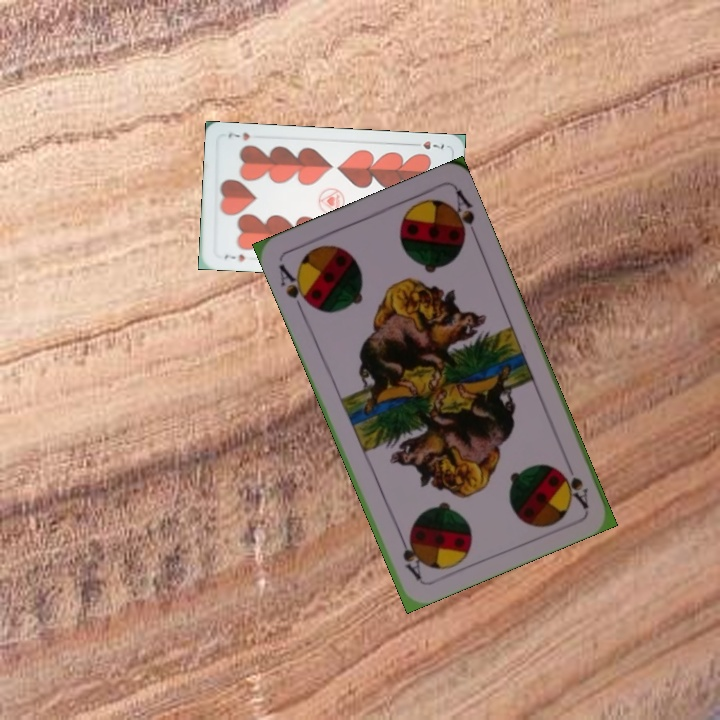H7: (408, 136, 447, 152), (221, 250, 247, 264)
SA: (274, 260, 315, 315), (556, 454, 592, 511)
